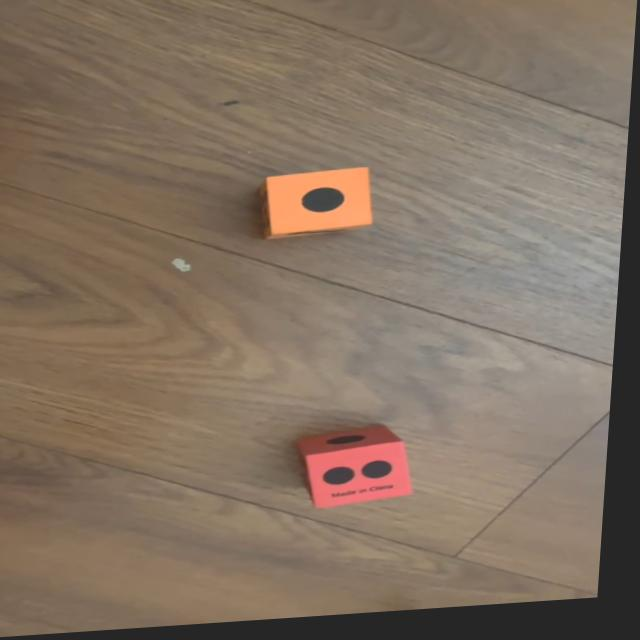red_block: (305, 430, 423, 514)
